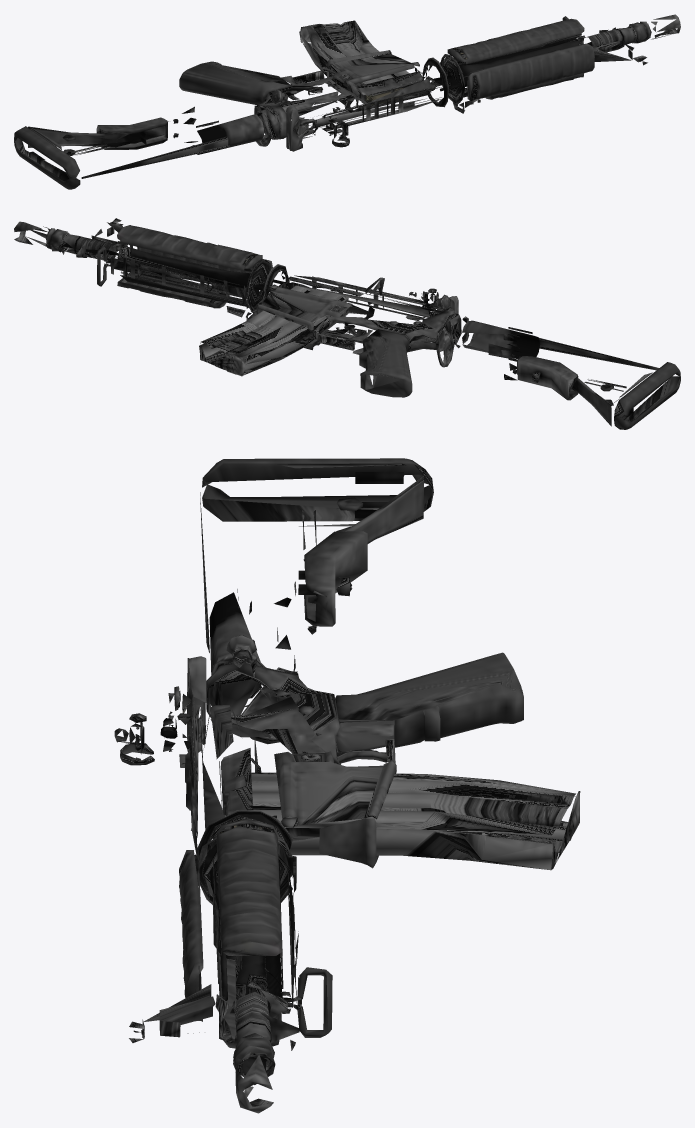
The picture shows the model from 3 angles, top to bottom: view 1: azimuth 30°, elevation 25°; view 2: azimuth 150°, elevation 25°; view 3: azimuth 270°, elevation 25°; orthographic projection. The views are drawn at different scales.
Parts seen in each view (by area): view 1: p_m4a4; view 2: p_m4a4; view 3: p_m4a4.
Part boxes in pixels (<box>): p_m4a4: <box>14,14,680,189</box>; p_m4a4: <box>14,218,680,429</box>; p_m4a4: <box>114,458,580,1113</box>.
Size of the model in its own units: 1.11 by 0.1141 by 0.3603.
1 material, 1 textured.
